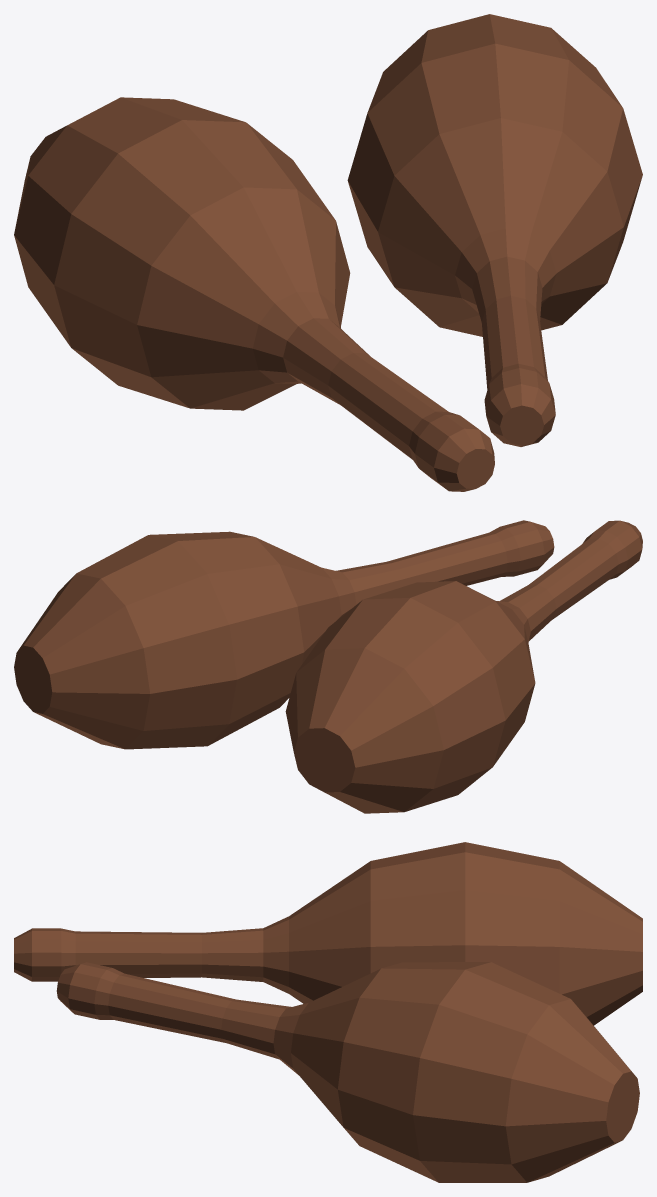
The model's file is maracas.fbx.
The picture shows the model from 3 angles, top to bottom: view 1: azimuth 30°, elevation 25°; view 2: azimuth 150°, elevation 25°; view 3: azimuth 270°, elevation 25°; orthographic projection. The views are drawn at different scales.
Parts seen in each view (by area): view 1: maracas; view 2: maracas; view 3: maracas.
Part boxes in pixels (x1=…): maracas: x1=14, y1=14, x2=642, y2=491; maracas: x1=14, y1=520, x2=642, y2=813; maracas: x1=14, y1=842, x2=642, y2=1182.
Bounding box in the file's own units: 14.86 × 6.51 × 18.02.
